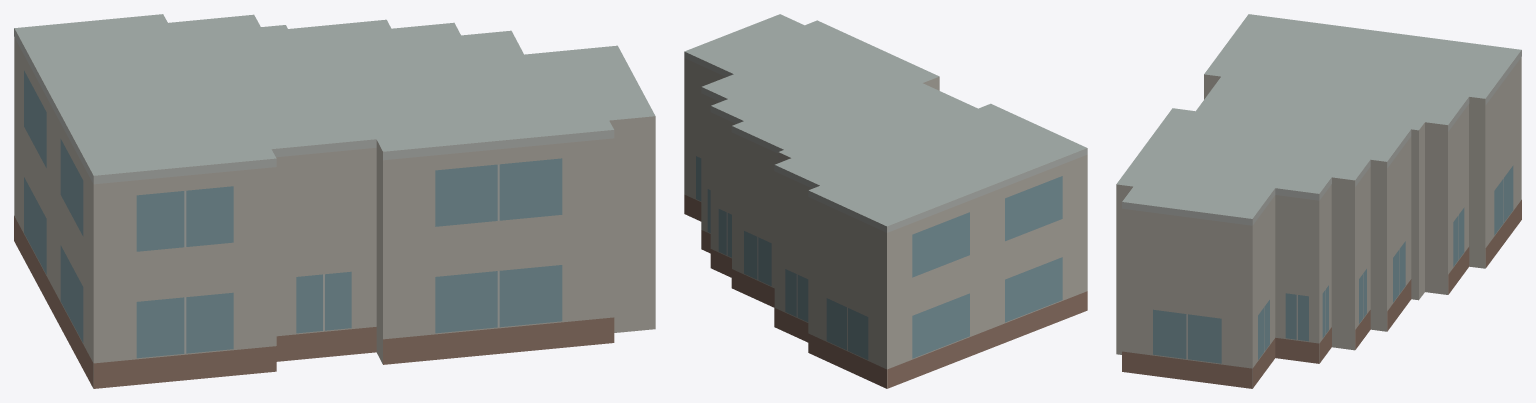
File: survey-upis-32934182.glb
3 renders of one model, left to right at view 1: azimuth 30°, elevation 25°; view 2: azimuth 150°, elevation 25°; view 3: azimuth 270°, elevation 25°, orthographic. The views are drawn at different scales.
Parts seen in each view (by area): view 1: survey-upis-32934182.tmp; view 2: survey-upis-32934182.tmp; view 3: survey-upis-32934182.tmp.
Boxes of the visible parts, <box> form: survey-upis-32934182.tmp: <box>14,14,655,388</box>; survey-upis-32934182.tmp: <box>684,14,1087,388</box>; survey-upis-32934182.tmp: <box>1116,14,1521,388</box>.
Bounding box in the file's own units: 15.79 × 6.1 × 13.21.
